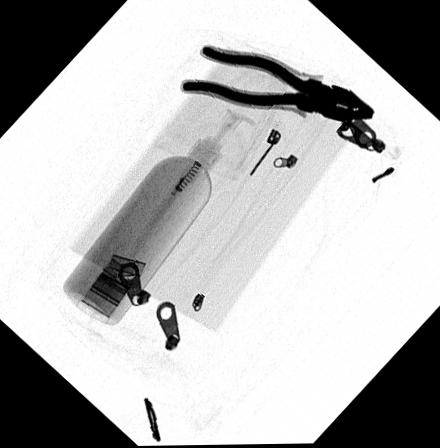Pliers: (180, 46, 373, 122)
